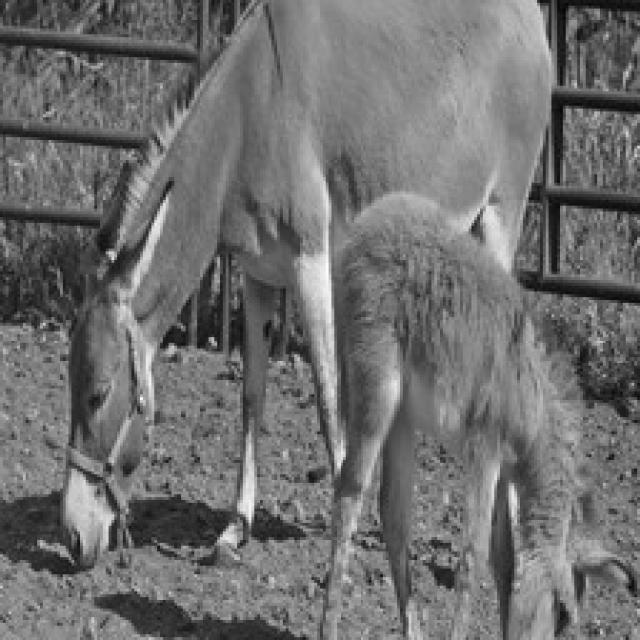Donkey: (57, 0, 554, 569), (312, 189, 637, 637)
